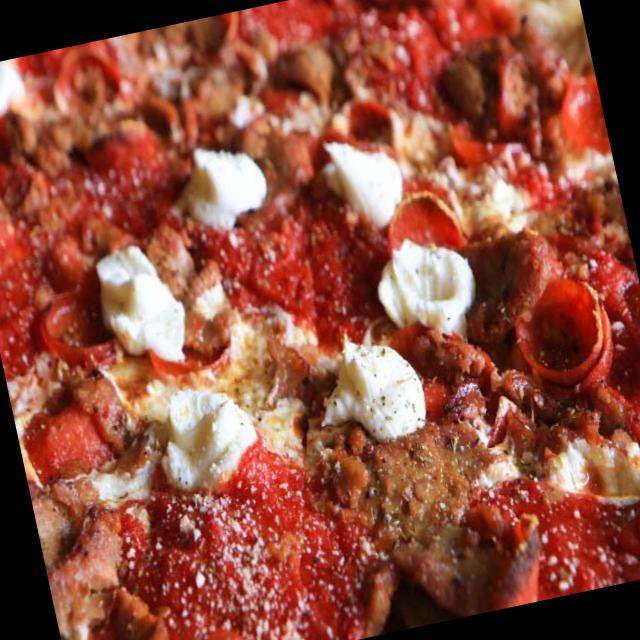pepperoni: (505, 266, 623, 406), (460, 232, 562, 346), (34, 282, 128, 381), (139, 306, 232, 390), (46, 42, 132, 125), (382, 184, 466, 264), (320, 90, 398, 162)
